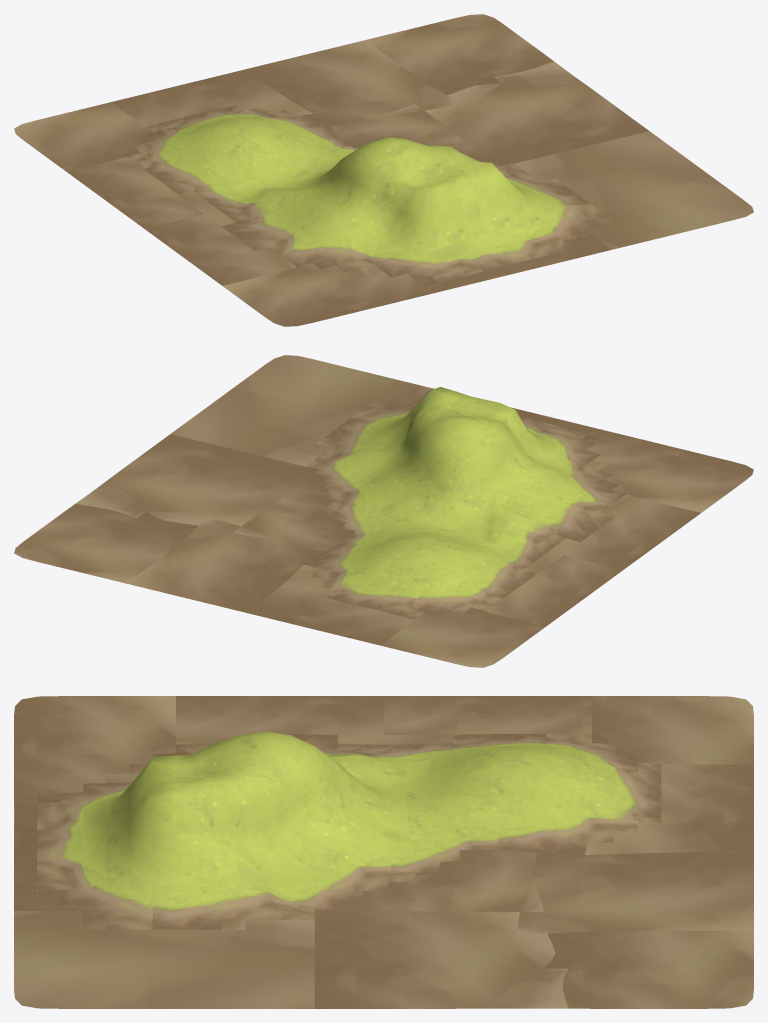
File: Isle.glb
The picture shows the model from 3 angles, top to bottom: view 1: azimuth 30°, elevation 25°; view 2: azimuth 150°, elevation 25°; view 3: azimuth 270°, elevation 25°; orthographic projection. The views are drawn at different scales.
Visible parts, largest first — view 1: Isle; view 2: Isle; view 3: Isle.
Part boxes in pixels (bbox=[...]): Isle: bbox=[14, 14, 753, 326]; Isle: bbox=[14, 355, 753, 667]; Isle: bbox=[14, 696, 753, 1008].
Size of what is drawn, in the model's own units: 238 by 32.44 by 238.
Materials: 1 (1 with a texture image).
